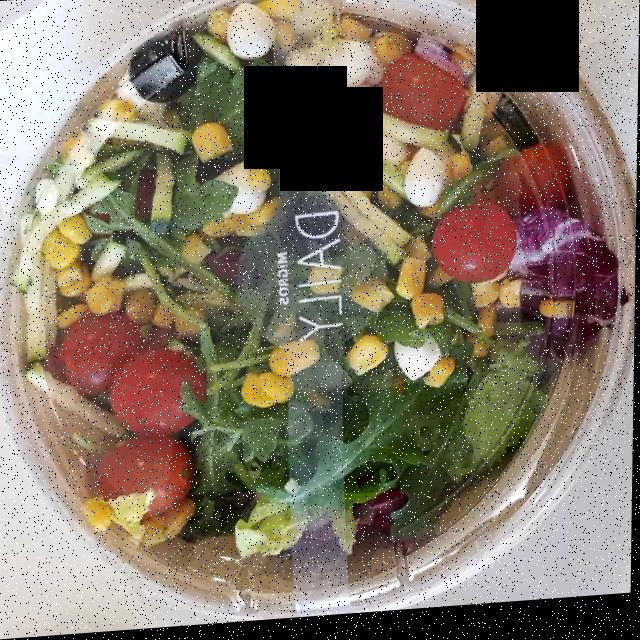mixed-salad-chopped-without-sauce: (85, 67, 606, 564)
mozzarella: (219, 0, 448, 387)
tomato-raw: (55, 53, 580, 503)
zucchini: (22, 59, 501, 438)
